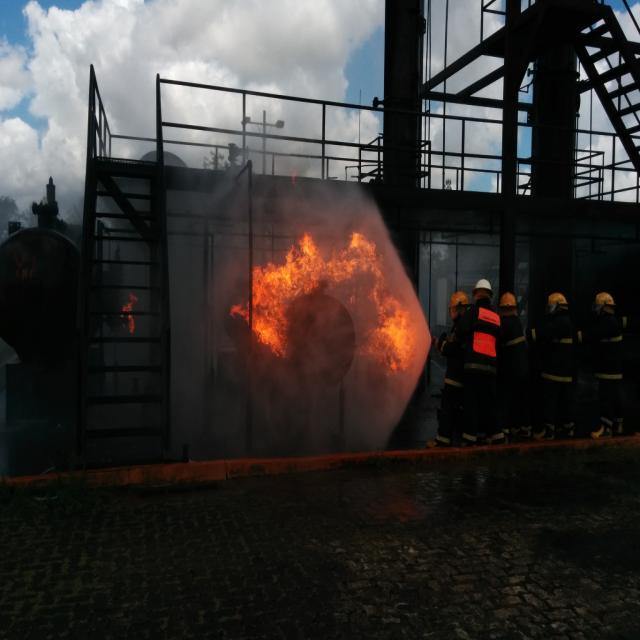Fire: (228, 223, 420, 411)
